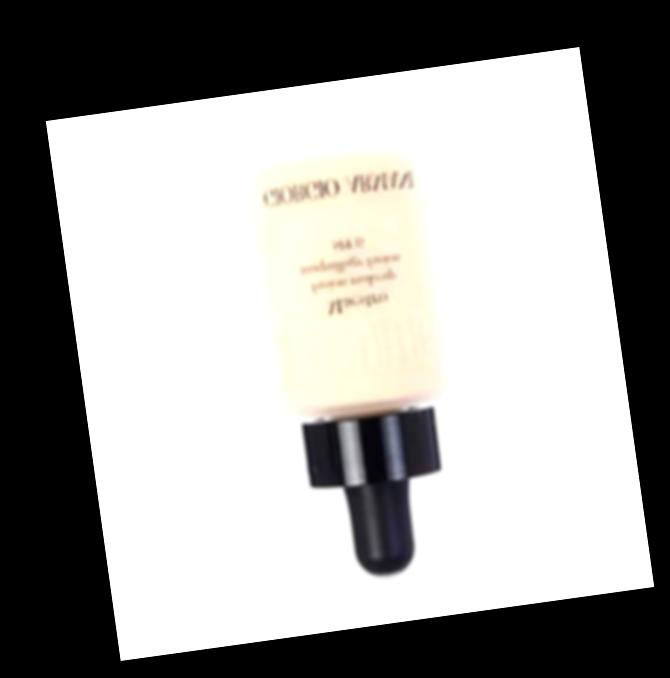cosmetic: (222, 115, 489, 592)
